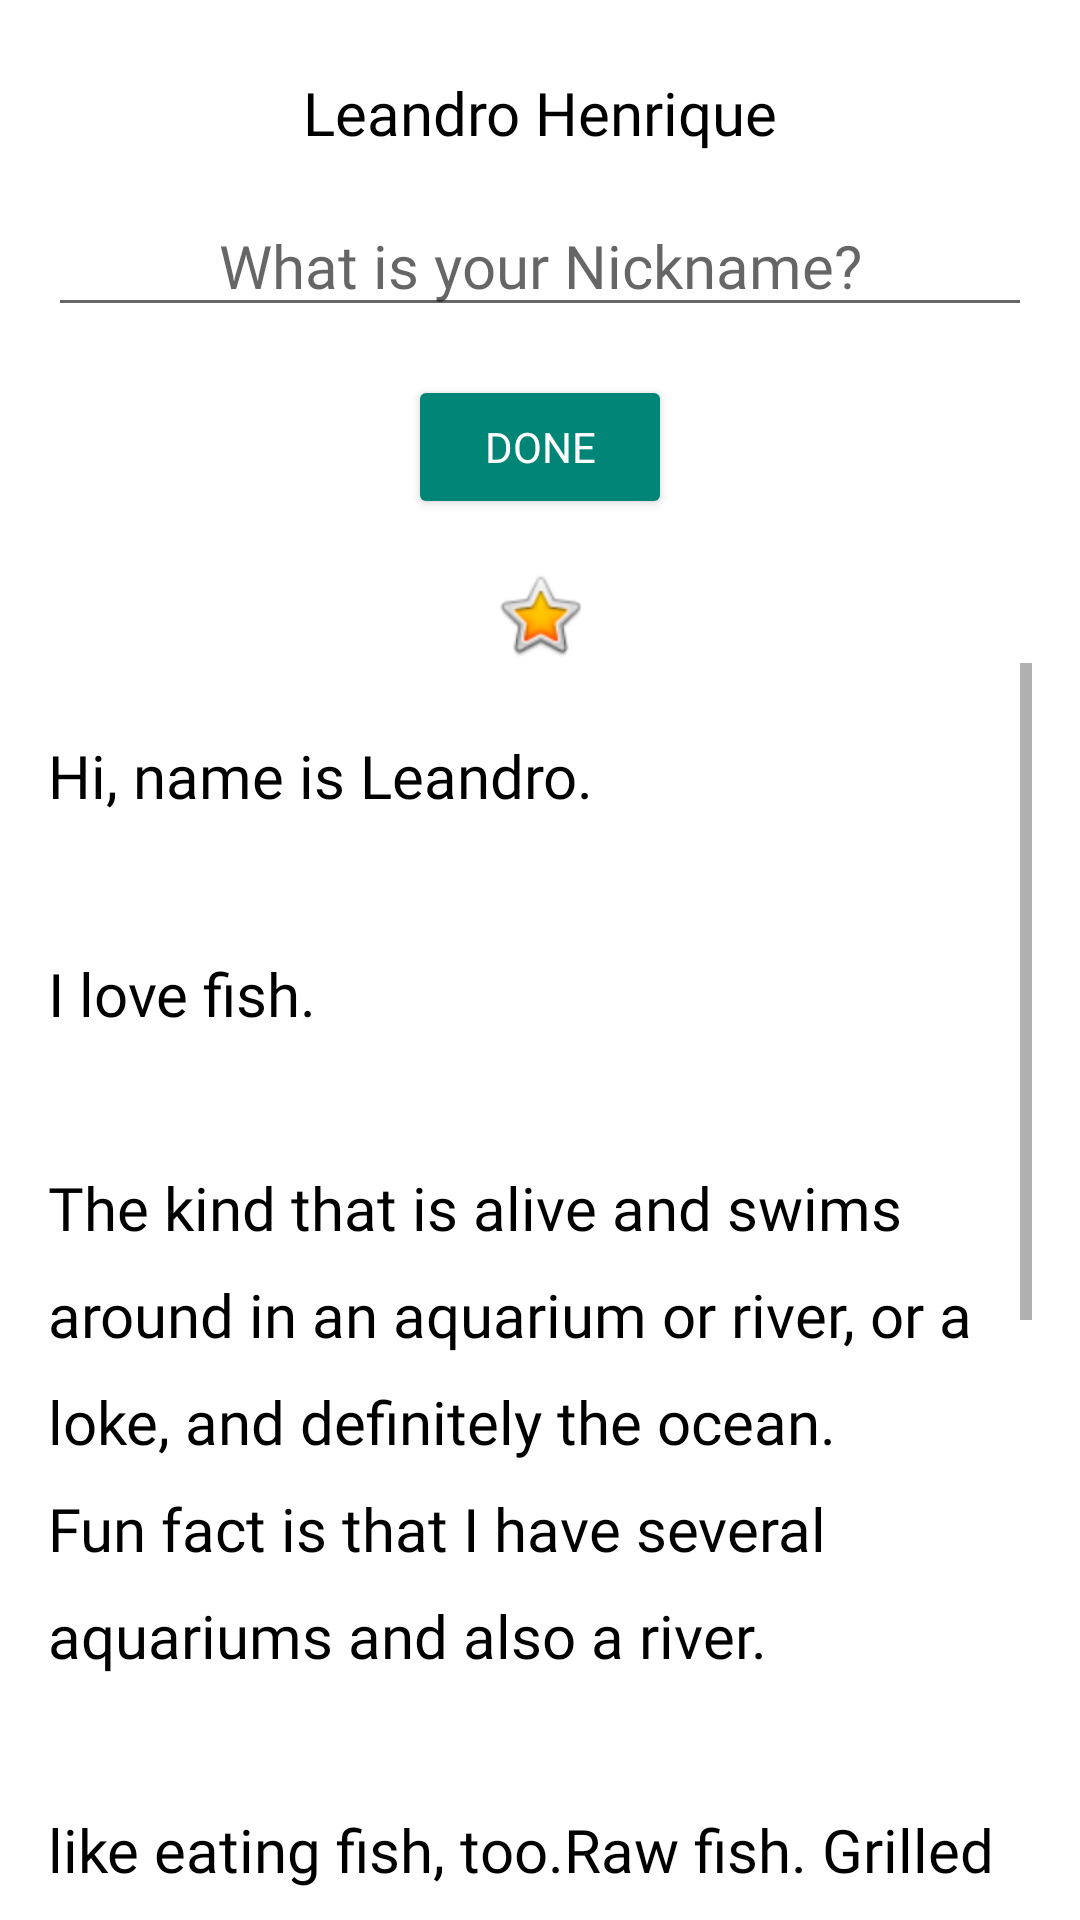

Screen size 1080 x 1920. Icon name, then its box in pixels as (x1, y1, x2, y2):
Yellow star: (501, 577, 581, 655)
